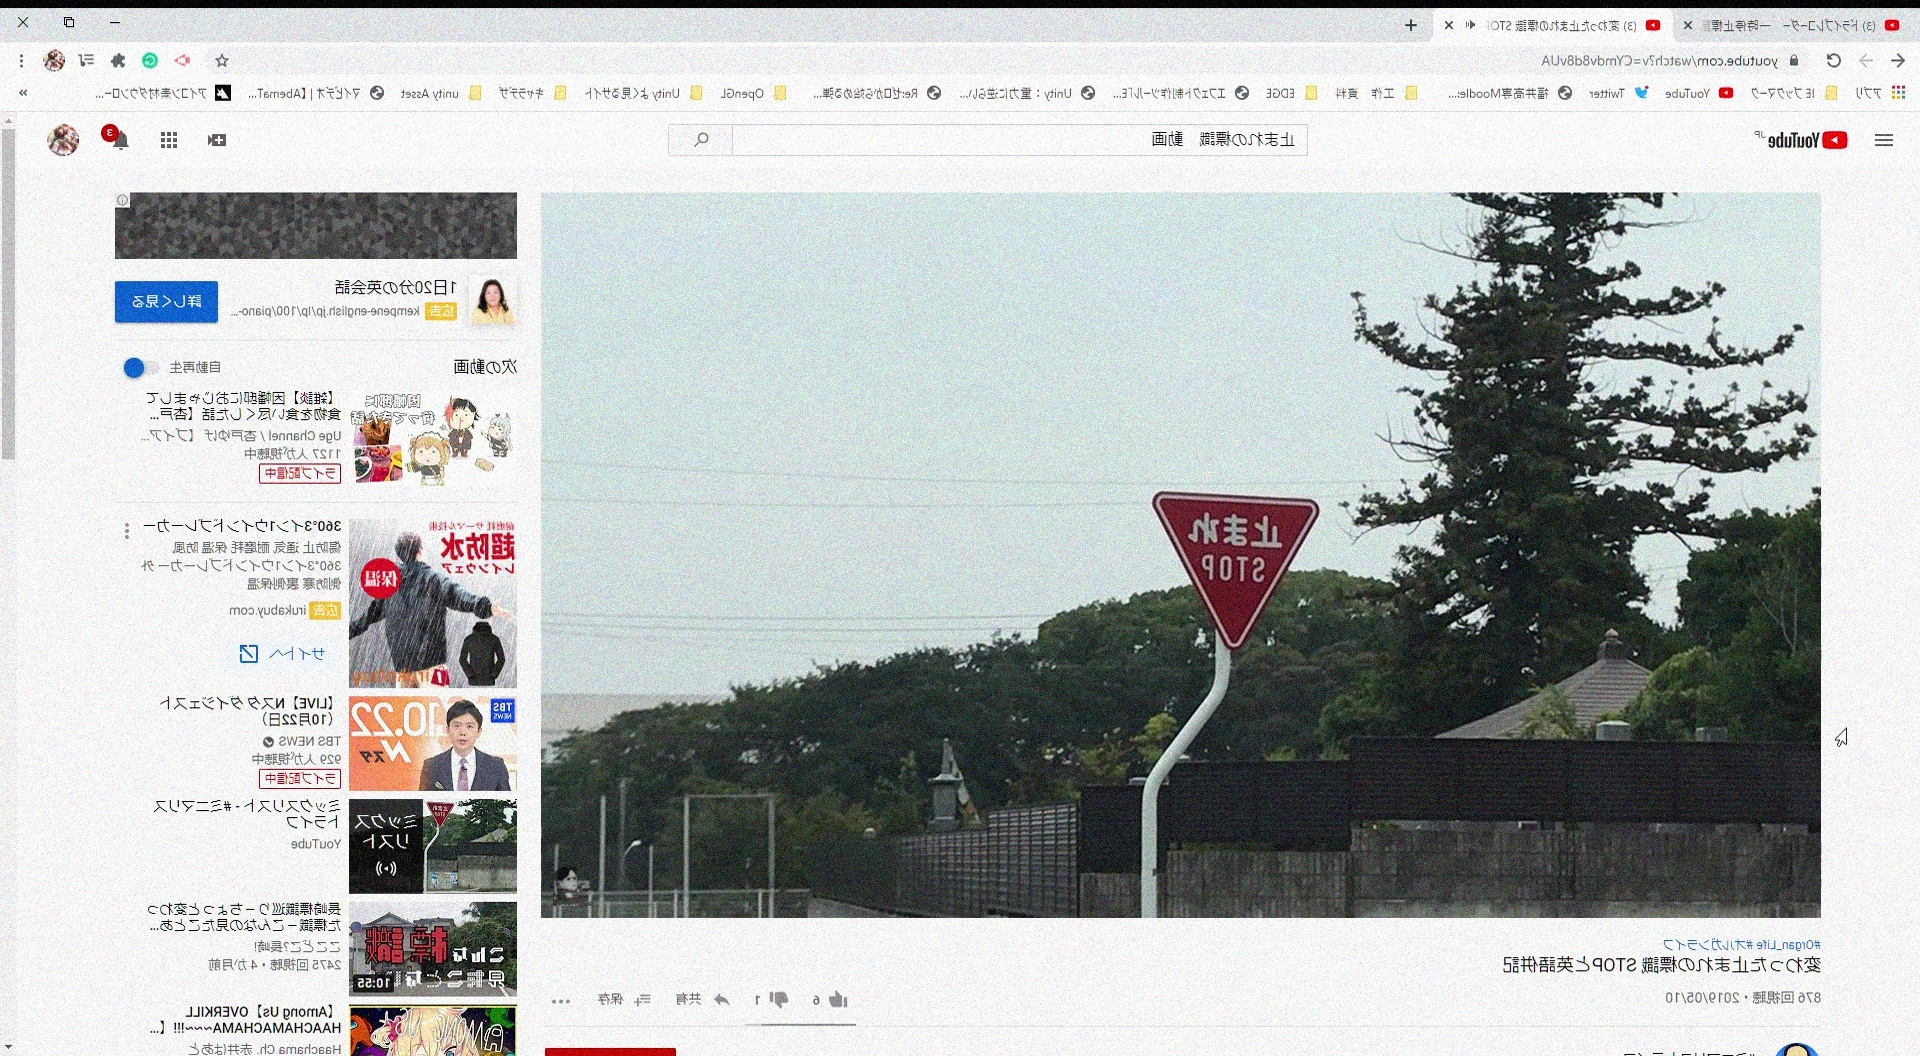Regulatory_sign_triangle: (1143, 482, 1336, 683)
